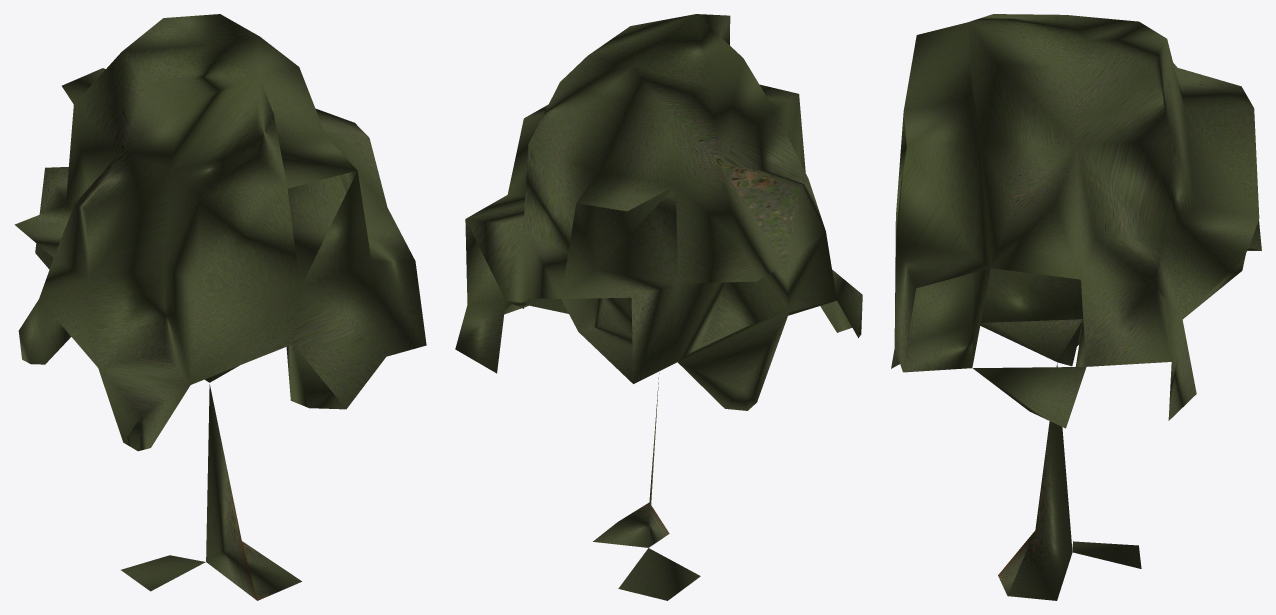
File: broadleaf_tree_dark_low.glb
3 views of the same model, side by side, from view 1: azimuth 30°, elevation 25°; view 2: azimuth 150°, elevation 25°; view 3: azimuth 270°, elevation 25° (orthographic). The views are drawn at different scales.
Size of the model in its own units: 6.79 by 11 by 6.72.
1 material, 1 textured.
